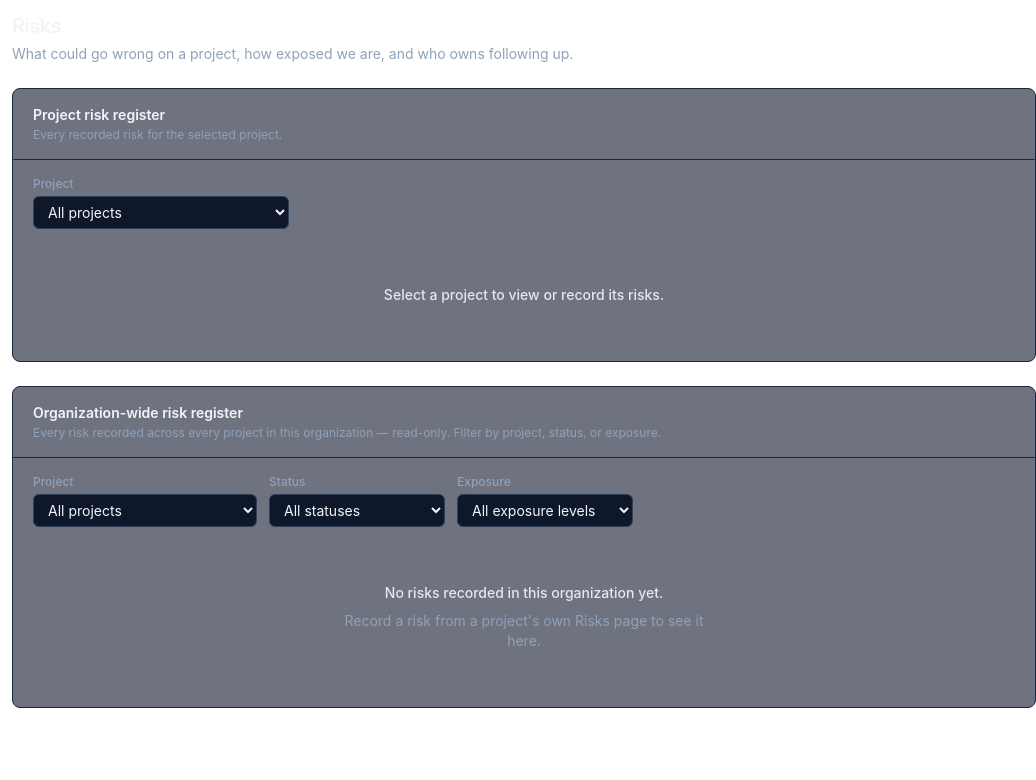
Test: RisksOverviewPage — organization-wide register (Phase 47) › shows the filtered-empty state, not the "no history" state, once a filter is applied
Select "Closed" in the dropdown labelled "Status" at (357,510), box [269,494,445,527]
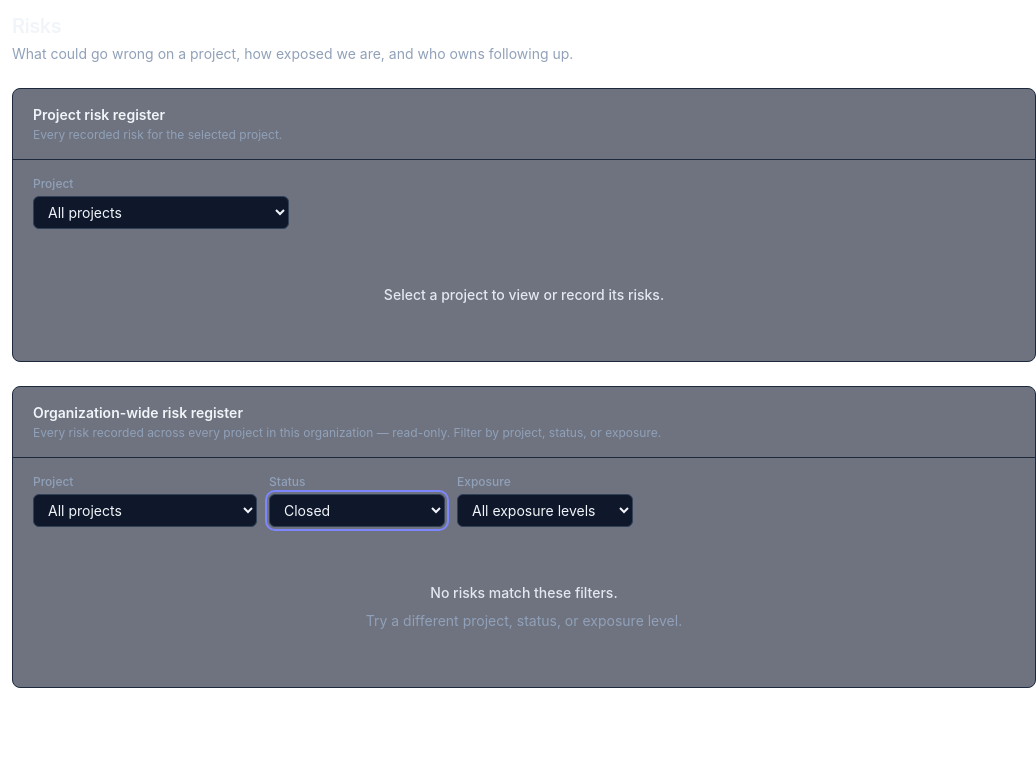
Check: the text "No risks match these filters." is shown, box [430,583,618,603]
